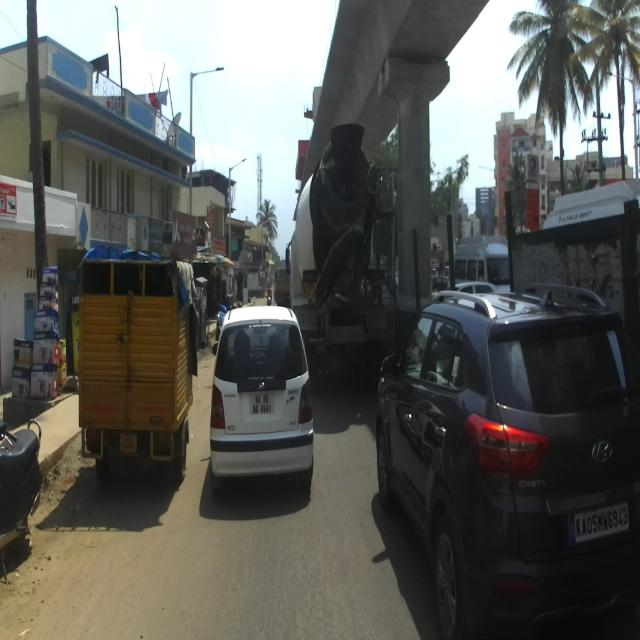autorickshaw: (77, 238, 197, 486)
car: (374, 285, 640, 639), (208, 304, 314, 500)
truck: (285, 121, 396, 406)
